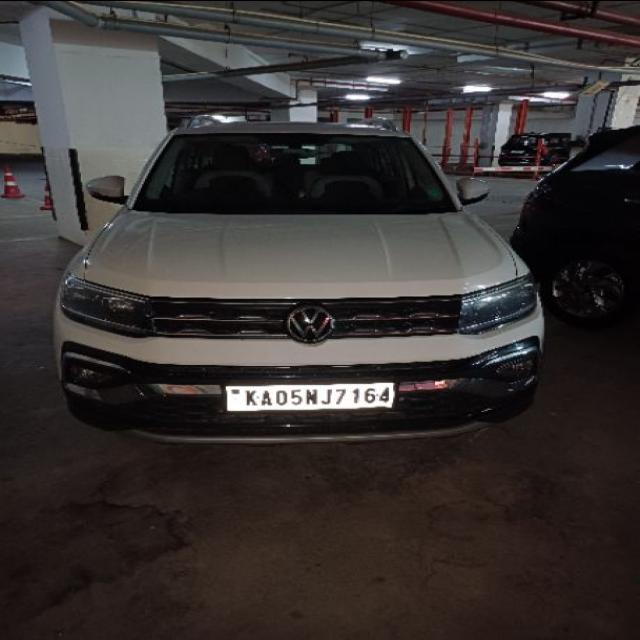license_plate: (222, 381, 396, 412)
